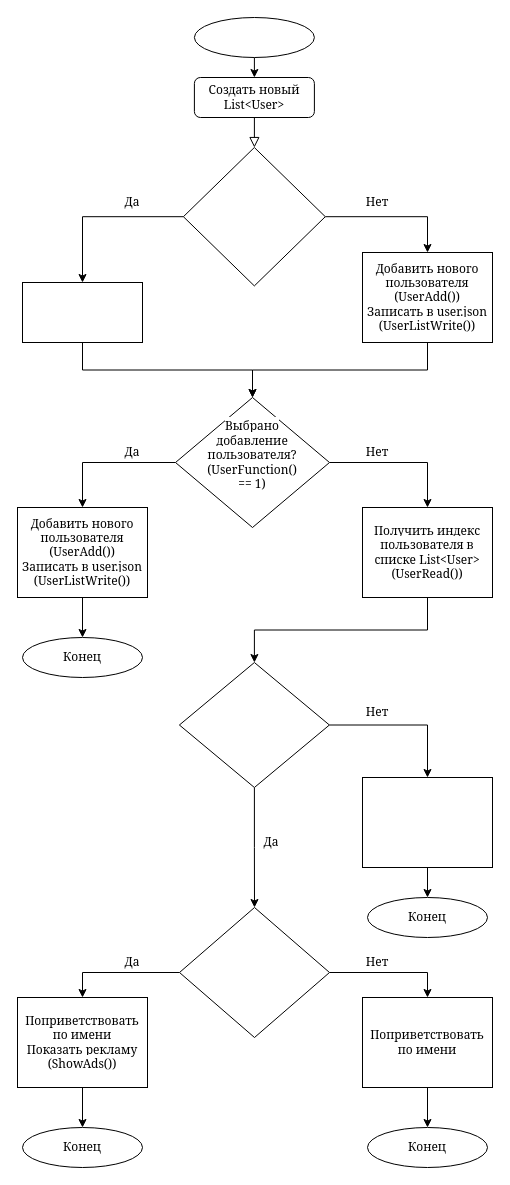
Some shapes in this 510 by 1185 pixel diagram are drawn without their labels. The shapes that lost their labels are listed below. From the top down, each one's centre as x and y in pixels, then its label:
(253,37): Начало
(253,216): Файл user.json существует?
(82,312): Считать user.json (UserListRead())
(253,725): Пользователь существует? (!(UserRead () == -1))
(427,822): Выдать сообщение "Пользователь не найден"
(254,972): Это не премиальный пользователь? (!(User.IsPremium == True))
